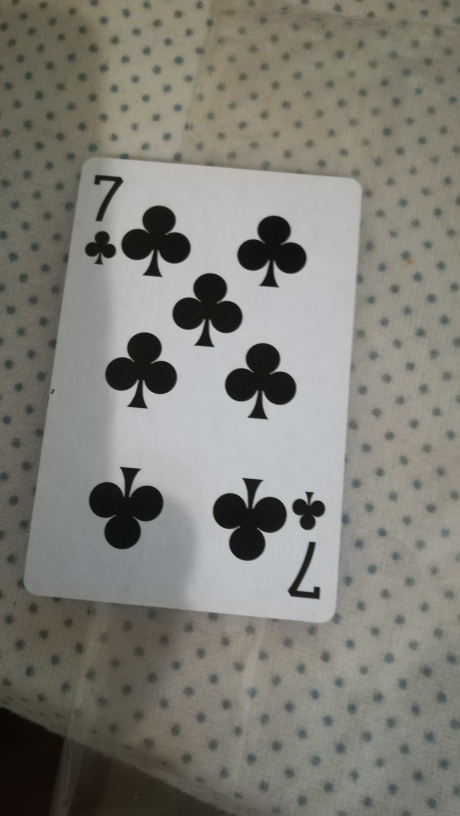mh 7: (21, 156, 362, 627)
